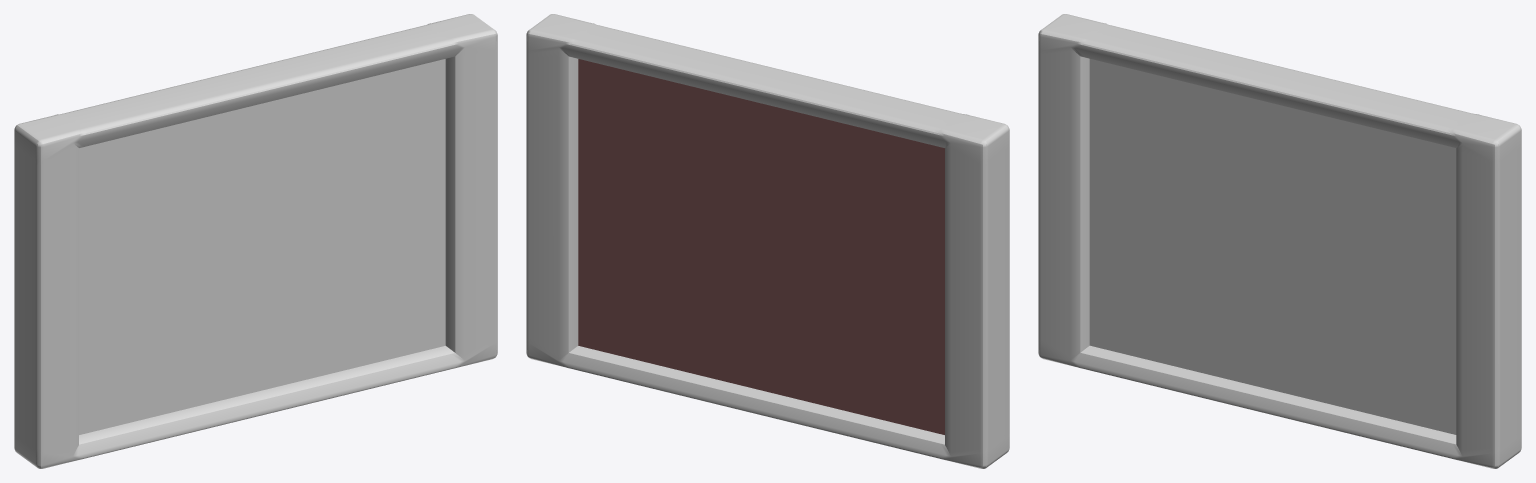
Rendered from PictureFrame.fbx.
3 renders of one model, left to right at view 1: azimuth 30°, elevation 25°; view 2: azimuth 150°, elevation 25°; view 3: azimuth 330°, elevation 25°, orthographic.
Parts seen in each view (by area): view 1: PictureFrame; view 2: PictureFrame; view 3: PictureFrame.
Part boxes in pixels (x1=…): PictureFrame: x1=14, y1=14, x2=497, y2=468; PictureFrame: x1=526, y1=14, x2=1009, y2=468; PictureFrame: x1=1038, y1=14, x2=1521, y2=468.
Size of the model in its own units: 25 by 17.06 by 2.5.
